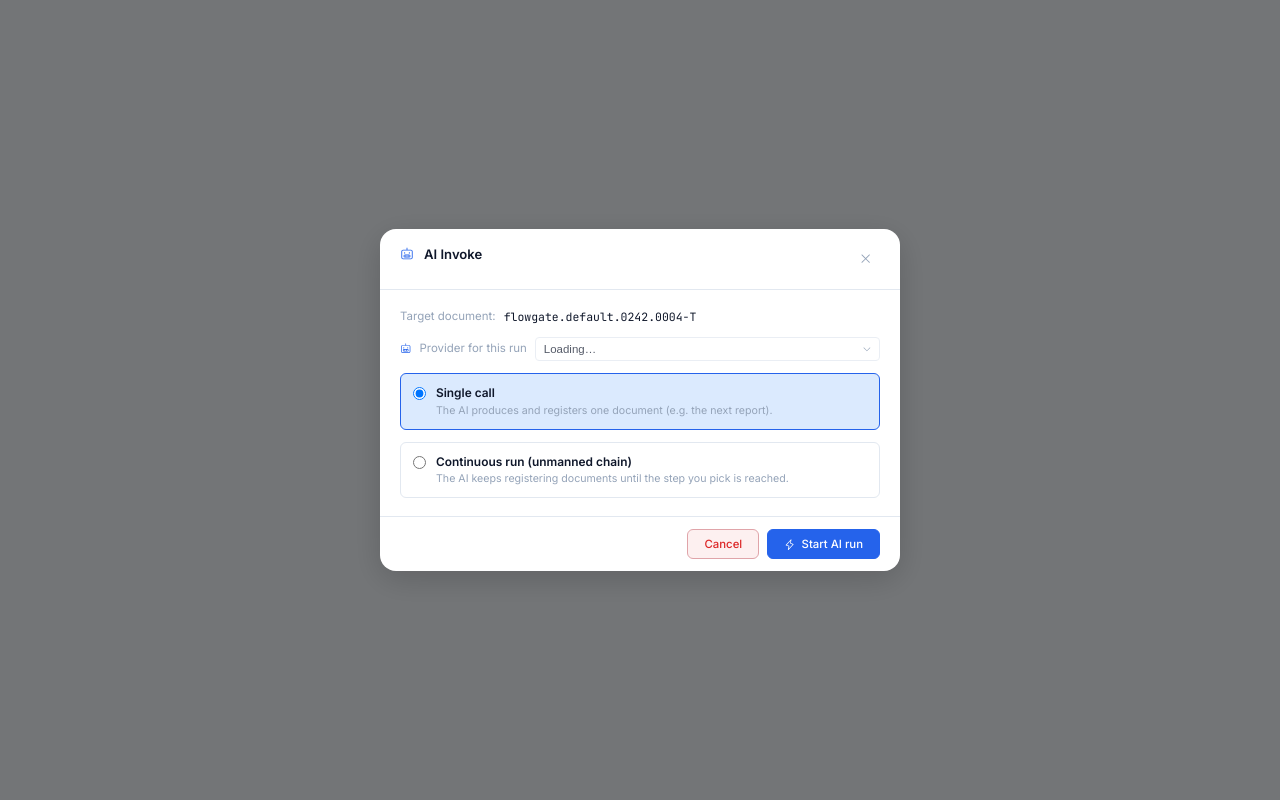
Test: AiInvokeDialog continuous target › shows the step picker instead of a raw seq number input
Click the 2nd radio button: (420, 462) x1=413 y1=456 x2=426 y2=469
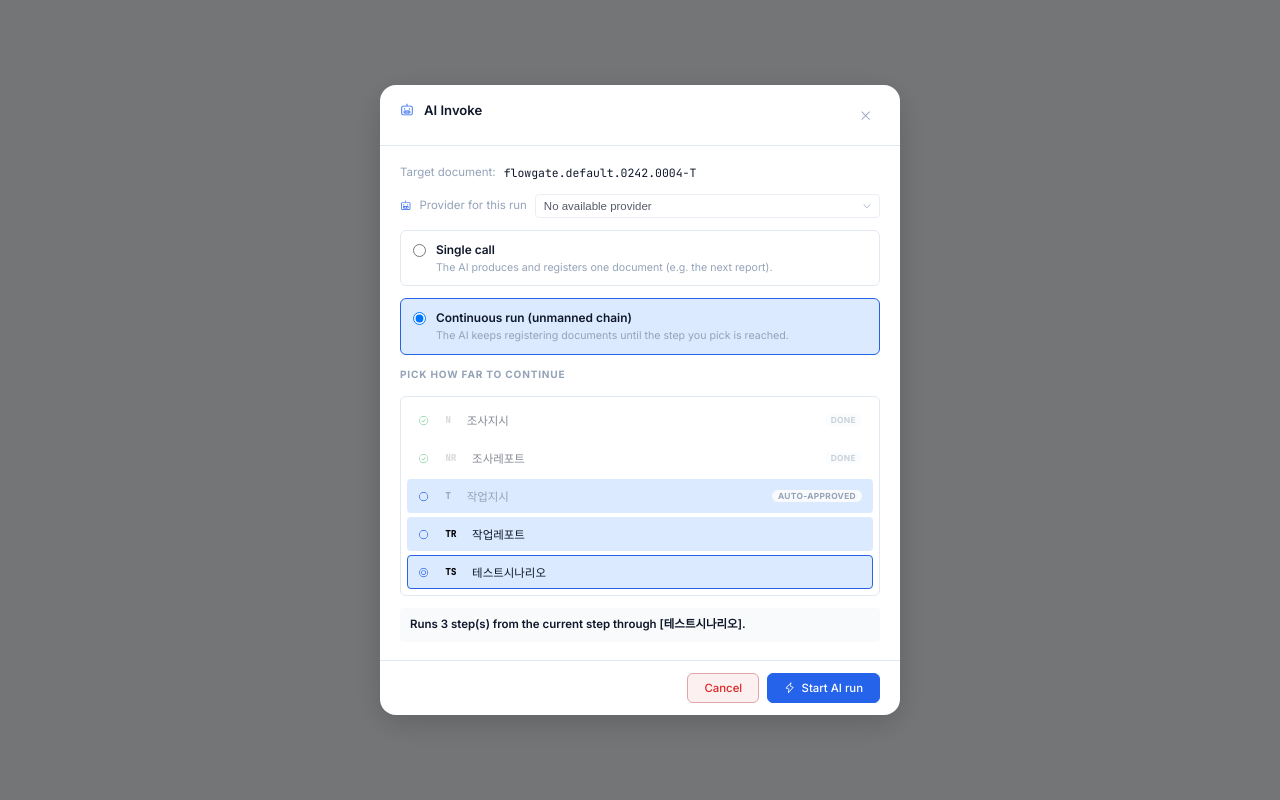
Check: the number of buttons with class "wsp-step" is 5, box x1=407 y1=403 x2=873 y2=437; x1=407 y1=441 x2=873 y2=475; x1=407 y1=479 x2=873 y2=513; x1=407 y1=517 x2=873 y2=551; x1=407 y1=555 x2=873 y2=589
Check: the button with class "wsp-step" shows "작업지시", box x1=407 y1=479 x2=873 y2=513
